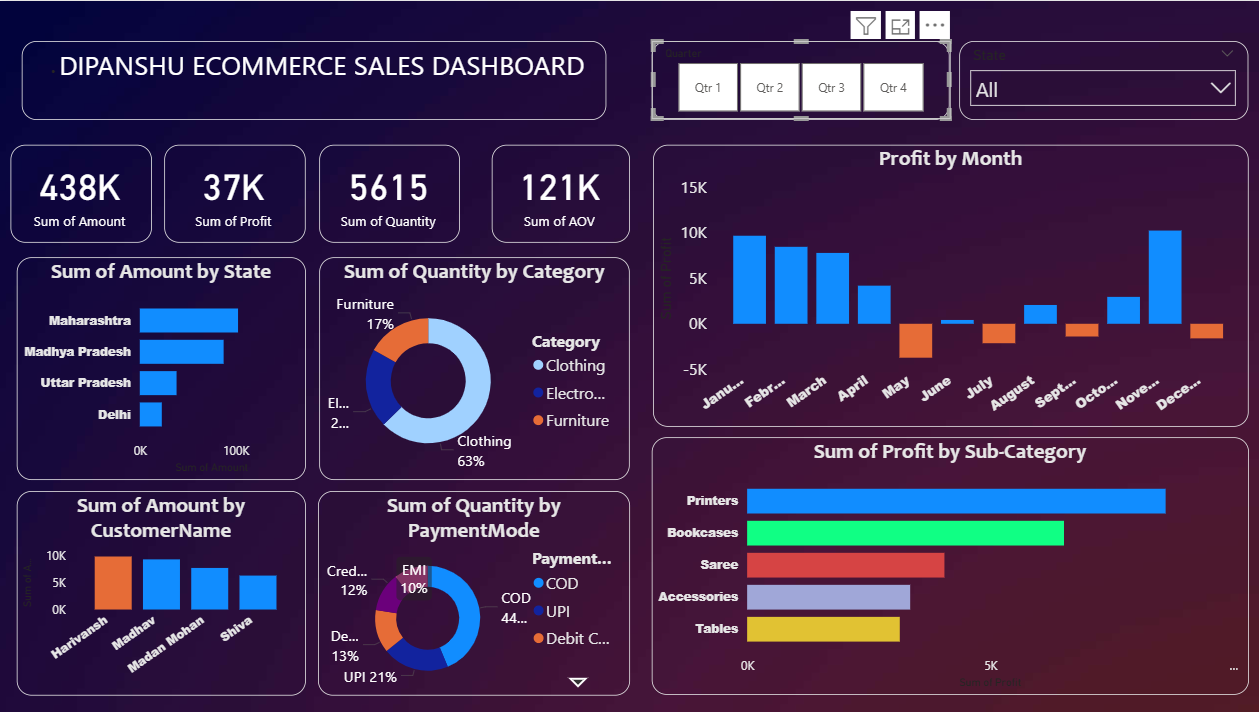

The page's visual inventory and layout, read from the dashboard file:
{"tool":"powerbi","page":{"name":"Page 1","canvas":[1280,720],"ordinal":0},"visuals":[{"type":"textbox","box":[24.1,41,592.4,79.6],"z":0},{"type":"columnChart","title":" Profit by Month","fields":{"Category":["Orders.Order Date.Variation.Date Hierarchy.Month"],"Y":["Sum(Details.Profit)"]},"box":[663.5,145.6,603,285.7],"z":1000},{"type":"barChart","fields":{"Category":["Details.Sub-Category"],"Y":["Sum(Details.Profit)"]},"box":[662.1,442.3,604.4,261],"z":2000},{"type":"donutChart","fields":{"Category":["Details.Category"],"Y":["Sum(Details.Quantity)"]},"box":[325.6,259.6,314.6,225.3],"z":3000},{"type":"donutChart","fields":{"Category":["Details.PaymentMode"],"Y":["Sum(Details.Quantity)"]},"box":[324.2,495.9,315.9,207.4],"z":4000},{"type":"card","fields":{"Values":["Sum(Details.Amount)"]},"box":[12.4,145.6,142.9,98.9],"z":5000},{"type":"card","fields":{"Values":["Sum(Details.Quantity)"]},"box":[325.7,146,142.4,98.9],"z":7000},{"type":"card","fields":{"Values":["Sum(Details.AOV)"]},"box":[499.5,146,139.9,98.9],"z":8000},{"type":"barChart","fields":{"Category":["Orders.State"],"Y":["Sum(Details.Amount)"]},"box":[19.2,259.6,292.6,225.3],"z":10000},{"type":"columnChart","fields":{"Category":["Orders.CustomerName"],"Y":["Sum(Details.Amount)"]},"box":[19.2,495.9,292.6,207.4],"z":11000},{"type":"slicer","fields":{"Values":["Orders.Order Date.Variation.Date Hierarchy.Quarter"]},"box":[662.3,41,301.6,79.6],"z":11001},{"type":"slicer","fields":{"Values":["Orders.State"]},"box":[973.6,41,293.2,79.6],"z":11002},{"type":"card","fields":{"Values":["Sum(Details.Profit)"]},"box":[169,145.6,142.9,98.9],"z":11003}]}

Visuals, with their boxes in screenshot pixels (x1, y1, x2, y2), scaled from the page's 1280x720 canvas onto the 1259x712 screenshot:
textbox: locate(24, 41, 606, 119)
" Profit by Month" columnChart: locate(653, 144, 1246, 427)
barChart - Details.Sub-Category x Sum(Details.Profit): locate(651, 437, 1246, 695)
donutChart - Details.Category x Sum(Details.Quantity): locate(320, 257, 630, 480)
donutChart - Details.PaymentMode x Sum(Details.Quantity): locate(319, 490, 630, 695)
card - Sum(Details.Amount): locate(12, 144, 153, 242)
card - Sum(Details.Quantity): locate(320, 144, 460, 242)
card - Sum(Details.AOV): locate(491, 144, 629, 242)
barChart - Orders.State x Sum(Details.Amount): locate(19, 257, 307, 480)
columnChart - Orders.CustomerName x Sum(Details.Amount): locate(19, 490, 307, 695)
slicer - Orders.Order Date.Variation.Date Hierarchy.Quarter: locate(651, 41, 948, 119)
slicer - Orders.State: locate(958, 41, 1246, 119)
card - Sum(Details.Profit): locate(166, 144, 307, 242)
